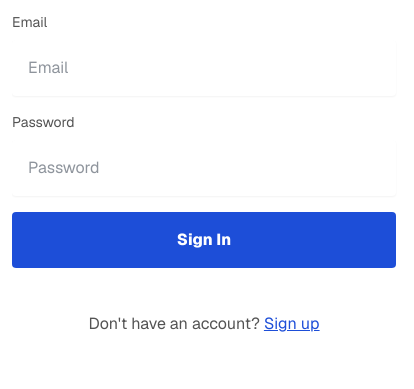
Test: SignInForm › shows the error returned by signIn
Type "a@b.com" into the field labelled "Email" at point(204, 68), box [12, 40, 396, 96]
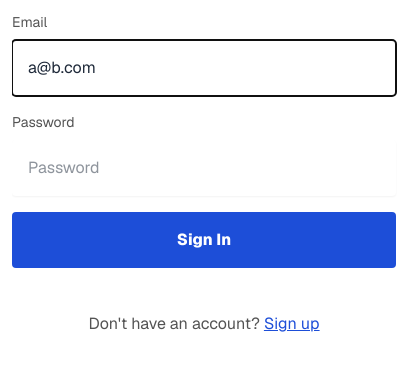
Type "wrong" into the password field labelled "Password" at point(204, 168), box [12, 140, 396, 196]
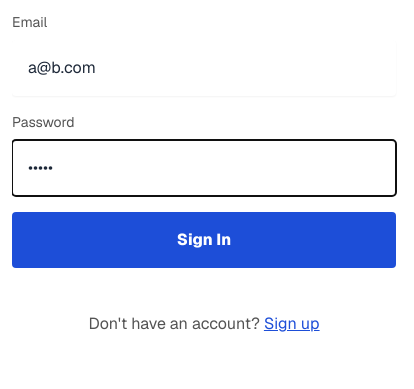
Click the button "Sign In" at point(204, 240), box [12, 212, 396, 268]
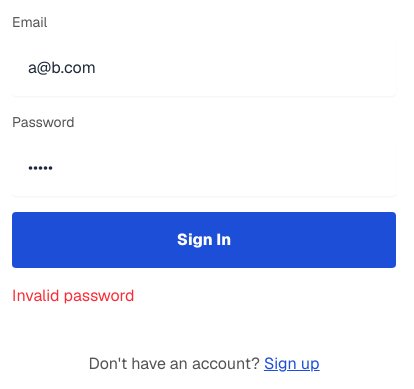
Expected: the text "Invalid password" is shown, [12, 285, 134, 306]
